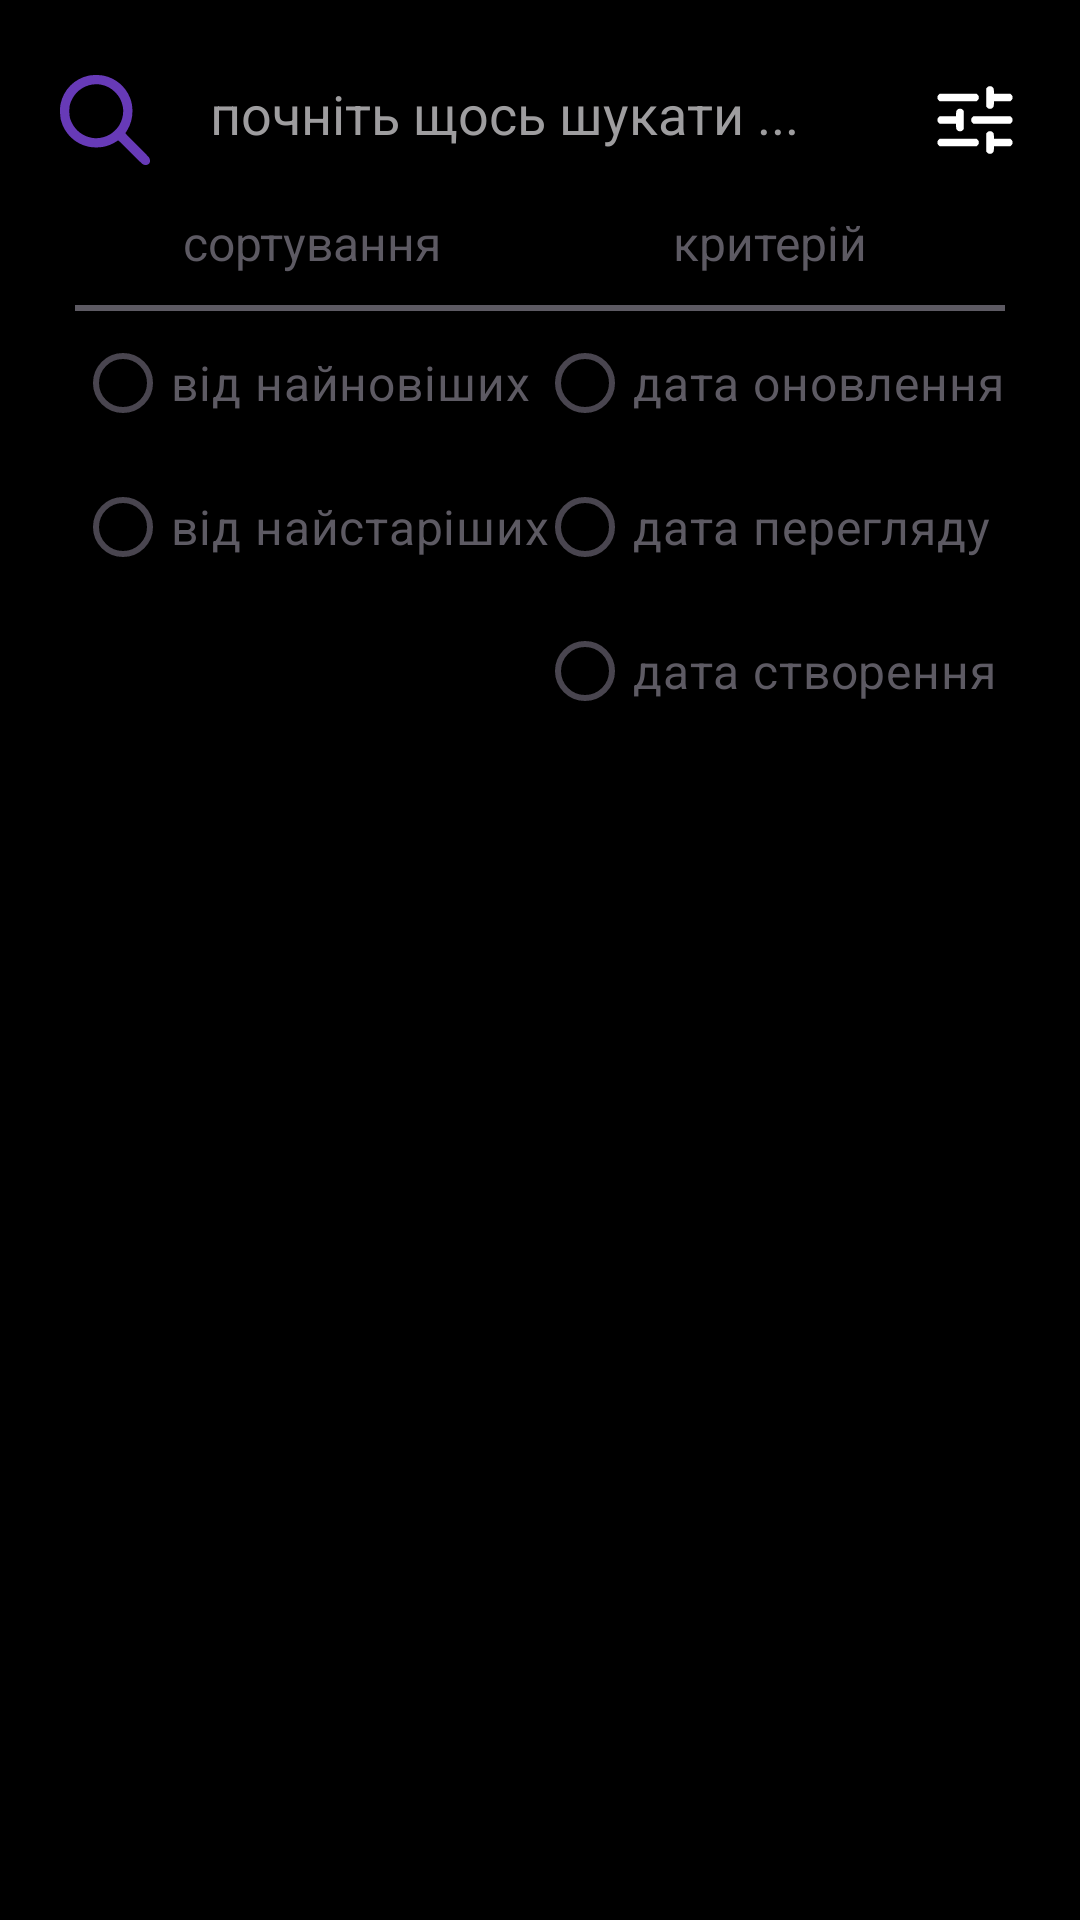

Locate icon controls on the screen. Image size 1080px×1920px, boxes as Rect(x1, y1, x2, y2).
filters: Rect(937, 86, 1013, 154)
search: Rect(60, 75, 150, 165)
